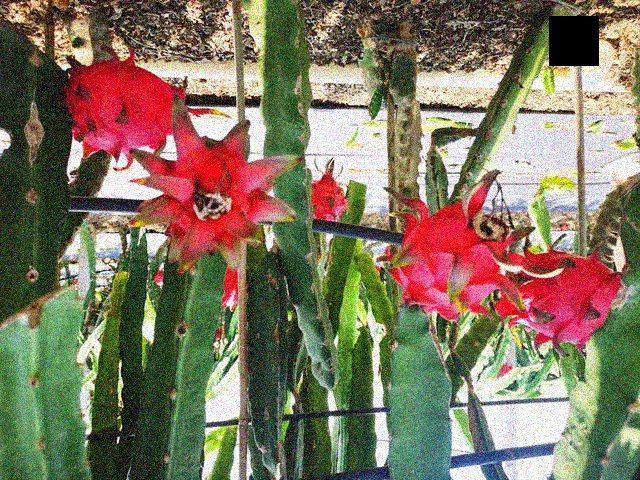pitaya: (136, 130, 295, 264), (494, 246, 624, 346), (65, 61, 192, 157), (396, 212, 503, 321), (310, 172, 348, 223), (211, 268, 250, 310)
